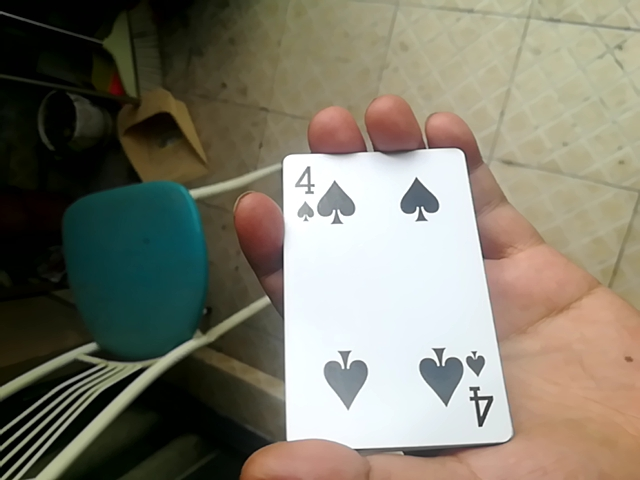ht 4: (272, 142, 513, 456)
